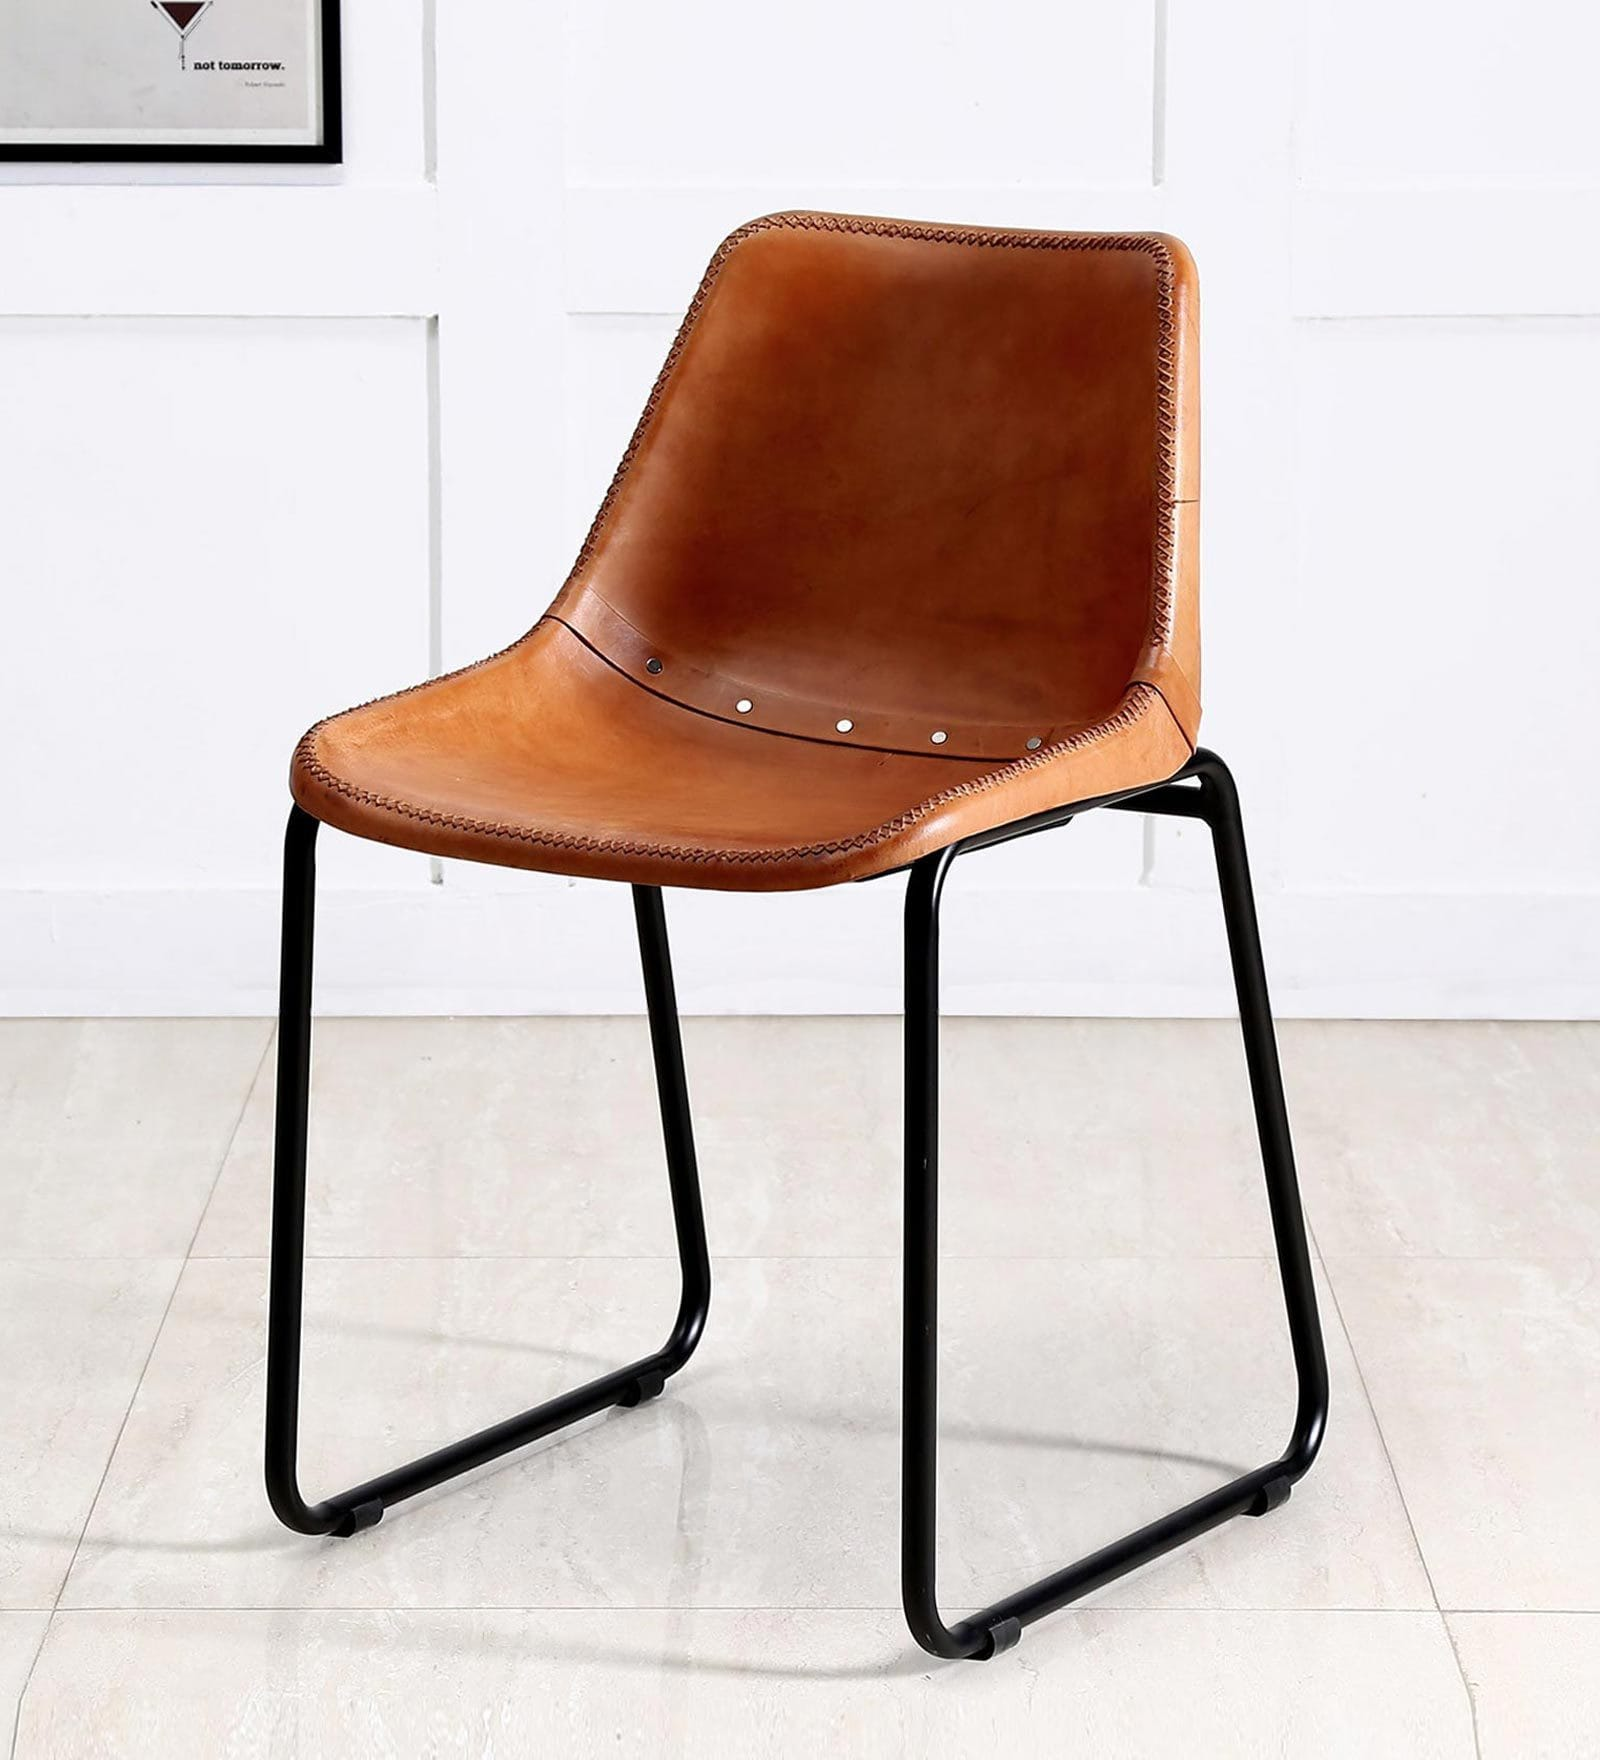Medina Natural Color Leather Accent Chair by Bohemiana: (254, 202, 1347, 1660)
